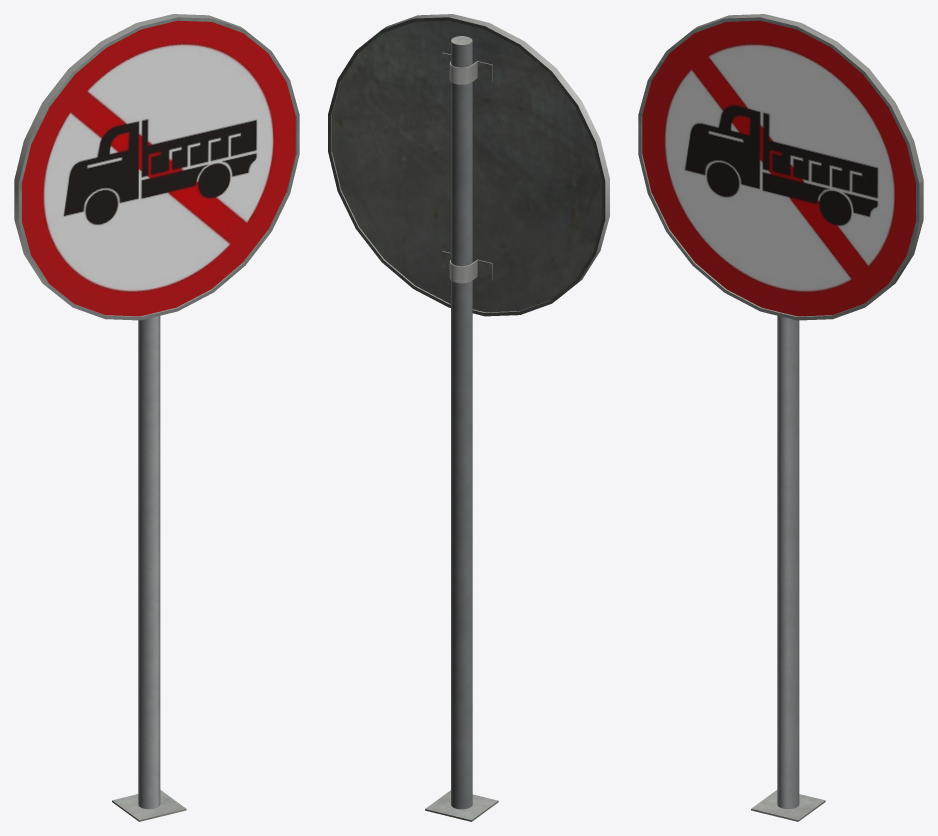
The picture shows the model from 3 angles, left to right: view 1: azimuth 30°, elevation 25°; view 2: azimuth 150°, elevation 25°; view 3: azimuth 330°, elevation 25°; orthographic projection.
Parts seen in each view (by area): view 1: MainBuilding; view 2: MainBuilding; view 3: MainBuilding.
Boxes of the visible parts, <box> form: MainBuilding: <box>14,14,299,821</box>; MainBuilding: <box>328,14,609,821</box>; MainBuilding: <box>638,14,923,821</box>.
Bounding box in the file's own units: 0.8923 × 2.4 × 0.15.
1 material, 1 textured.
